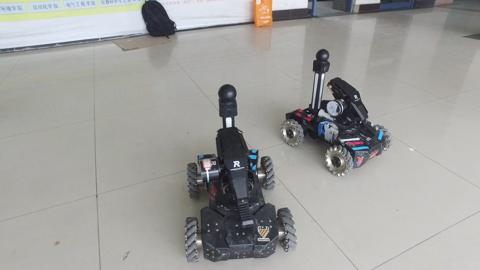chariot: (179, 80, 302, 267), (277, 42, 396, 178)
